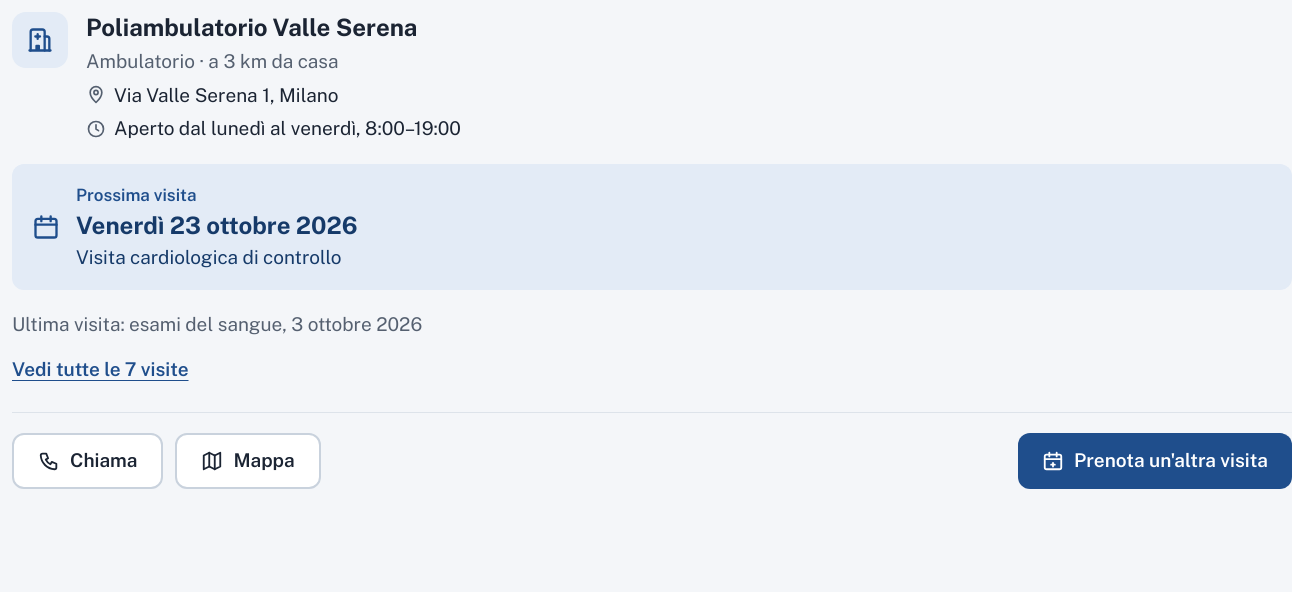
SchedaStudio › «Chiama» sul computer mostra numero e orari; sul telefono è un link tel: con il numero
The width and height of the screenshot is (1292, 592).
Click the button "Chiama" at (88, 461), box [12,433,163,489]
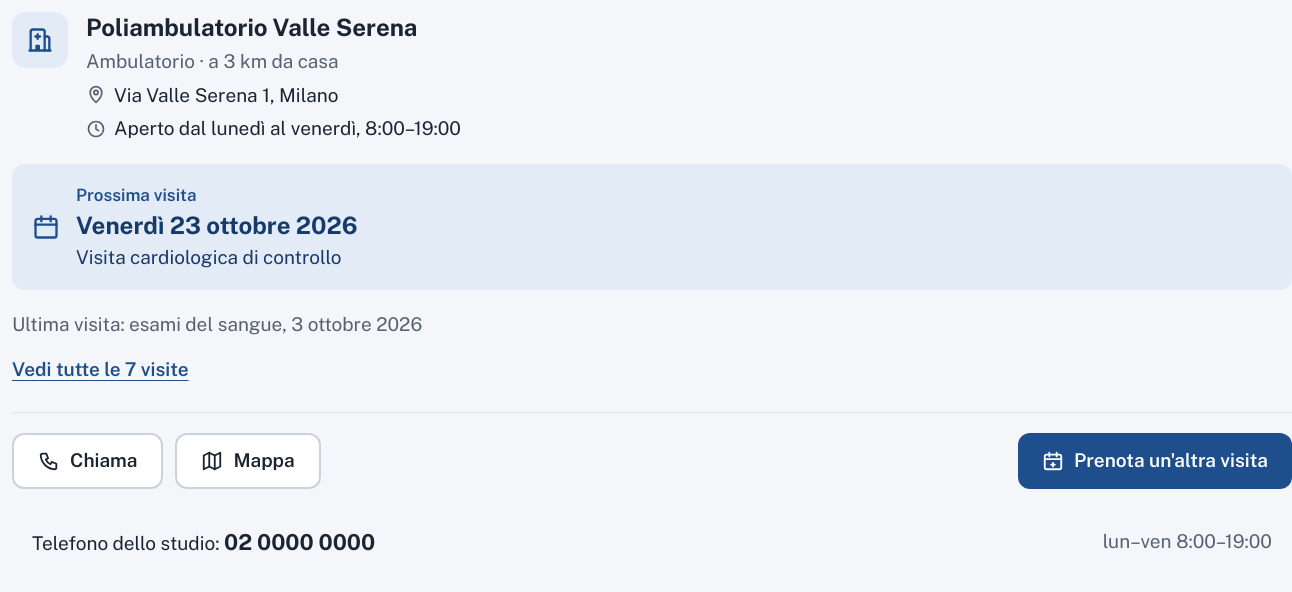
expect the message shows "Telefono dello studio: 02 0000 0000": met, box [12,509,1291,575]
expect the message shows "lun–ven 8:00–19:00": met, box [12,509,1291,575]
